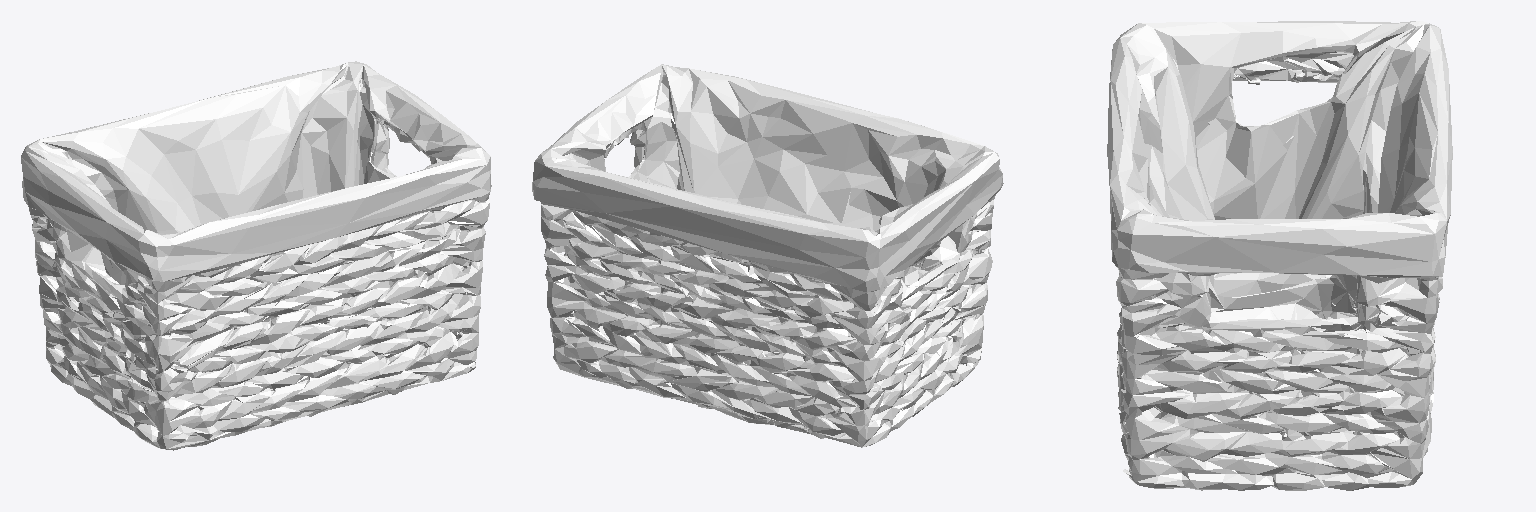
robot.urdf — ThresholdBasketNaturalFinishFabricLinerSmall:
<robot name="ThresholdBasketNaturalFinishFabricLinerSmall">
    <link name="base_link">
        <contact>
            <lateral_friction value="1.0" />
        </contact>
        <inertial>
            <origin xyz="-0.0 0.0 0.074" />
            <mass value="3.268302461945974" />
            <inertia ixx="1" ixy="0" ixz="0" iyy="1" iyz="0" izz="1" />
        </inertial>
        <visual>
            <origin xyz="0 0 0" />
            <geometry>
                <mesh filename="model_z3n3Hp2aoy4.obj" />
            </geometry>
            <material name="ThresholdBasketNaturalFinishFabricLinerSmall">
                <color rgba="1 1 1 1" />
            </material>
        </visual>
        <collision>
            <origin xyz="0 0 0" />
            <geometry>
                <mesh filename="model_z3n3Hp2aoy4_vhacd.obj" />
            </geometry>
        </collision>
       
    </link>
</robot>

--- Facts derived from the render (not from the file) ---
3 views of the same robot in one strip: view 1: azimuth 30°, elevation 25°; view 2: azimuth 150°, elevation 25°; view 3: azimuth 270°, elevation 25° (orthographic).
Model ThresholdBasketNaturalFinishFabricLinerSmall with 1 links and 0 joints (none), rooted at base_link, posed all joints at 0.
Visible links, largest first — view 1: base_link; view 2: base_link; view 3: base_link.
Boxes of the visible links, x1=… form: base_link: x1=21, y1=61, x2=491, y2=450; base_link: x1=532, y1=64, x2=1003, y2=447; base_link: x1=1107, y1=21, x2=1452, y2=490.
Bounding box of the posed robot: 0.2398 × 0.1629 × 0.1477 m (x, y, z).
Meshes: 1 distinct files referenced, 1 mesh visuals loaded (1 OBJ).
